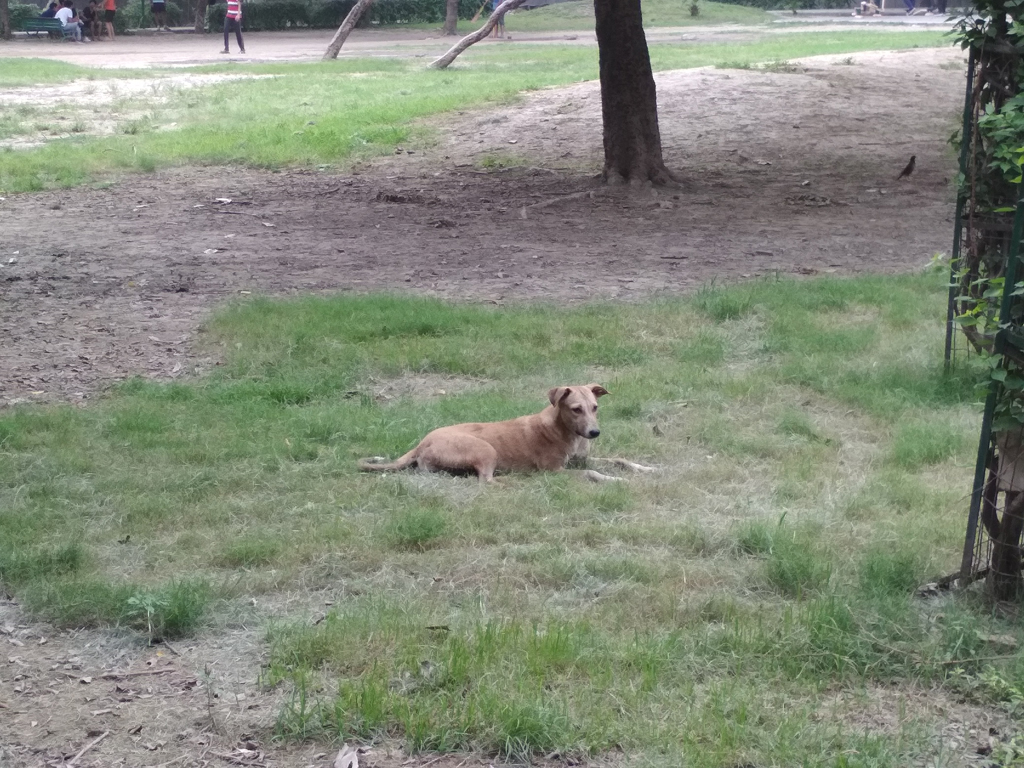dog: (358, 385, 662, 487)
